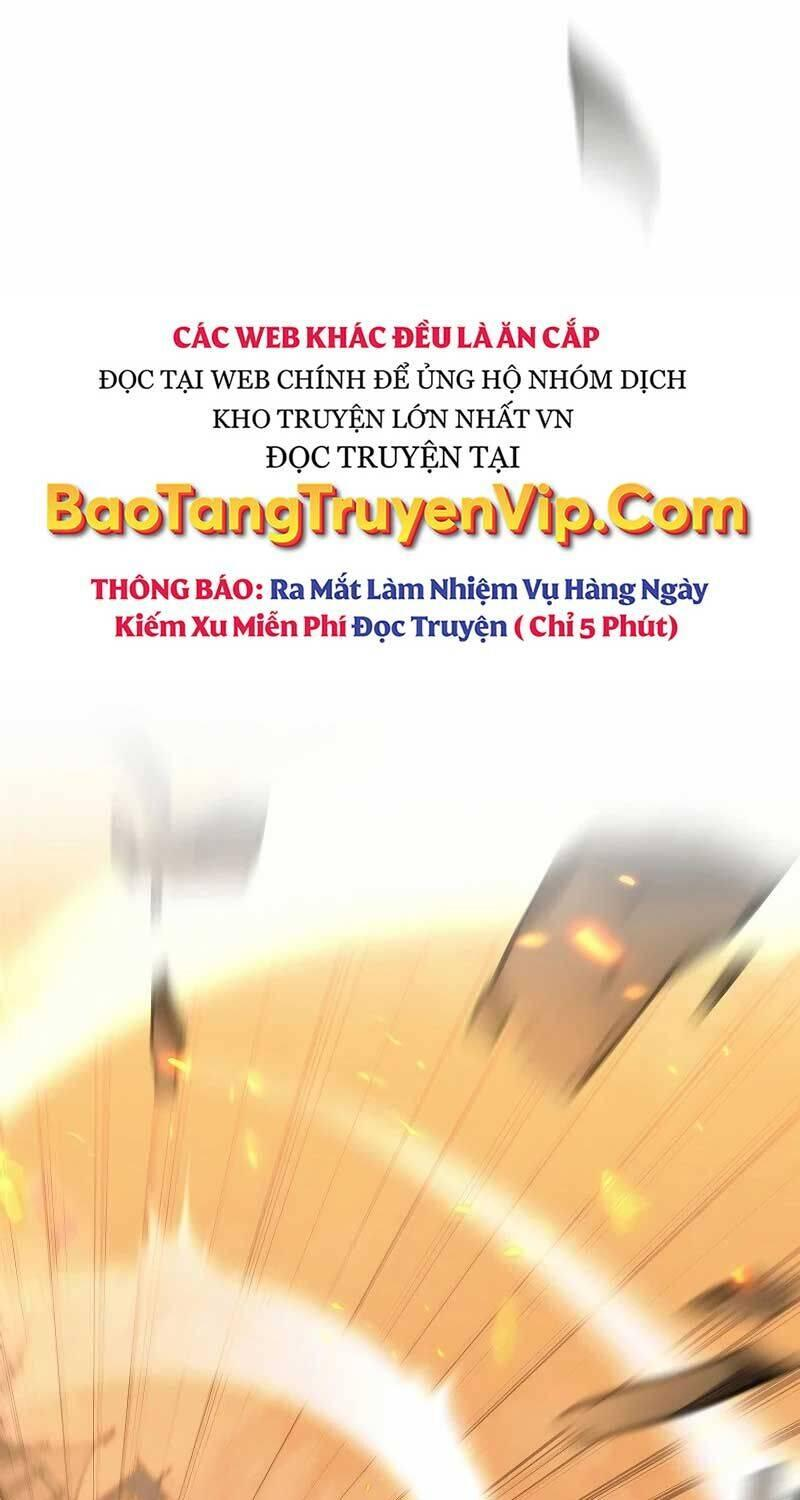quangcao: (34, 308, 772, 658)
